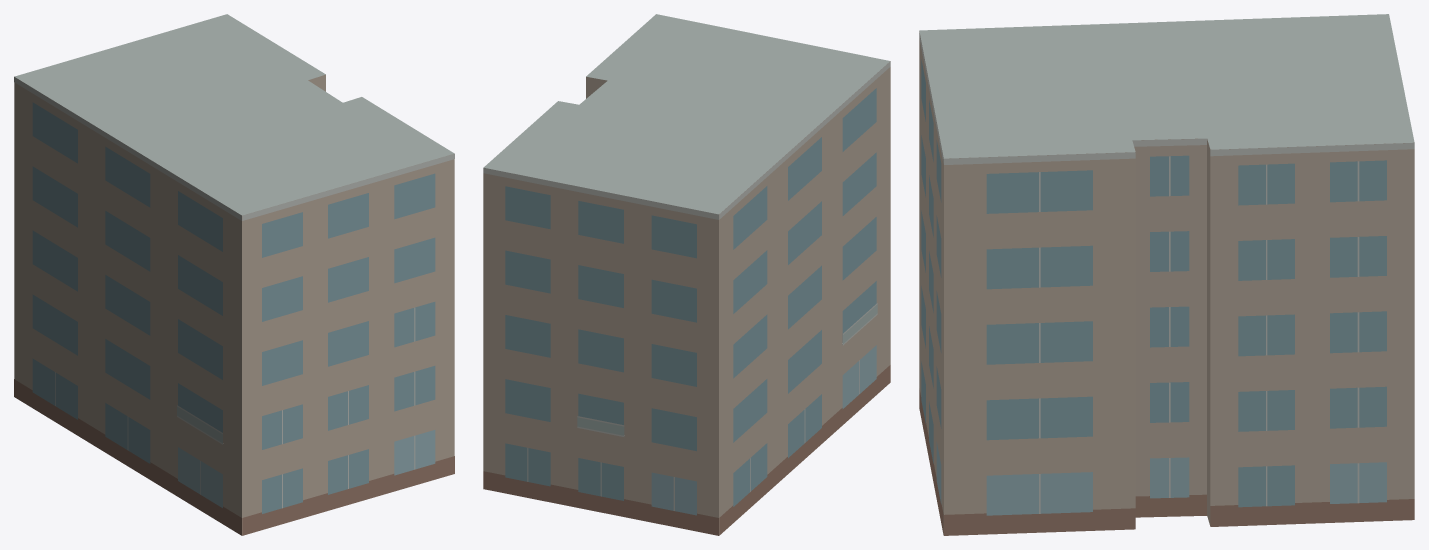
The model's file is survey-upis-32620152.glb.
3 views of the same model, side by side, from view 1: azimuth 30°, elevation 25°; view 2: azimuth 150°, elevation 25°; view 3: azimuth 270°, elevation 25° (orthographic). The views are drawn at different scales.
Parts seen in each view (by area): view 1: survey-upis-32620152.tmp; view 2: survey-upis-32620152.tmp; view 3: survey-upis-32620152.tmp.
Part boxes in pixels (left/top/right/bottom): survey-upis-32620152.tmp: left=14, top=14, right=454, bottom=535; survey-upis-32620152.tmp: left=483, top=14, right=890, bottom=535; survey-upis-32620152.tmp: left=919, top=14, right=1414, bottom=535.
Size of the model in its own units: 11.64 by 14.15 by 16.85.
